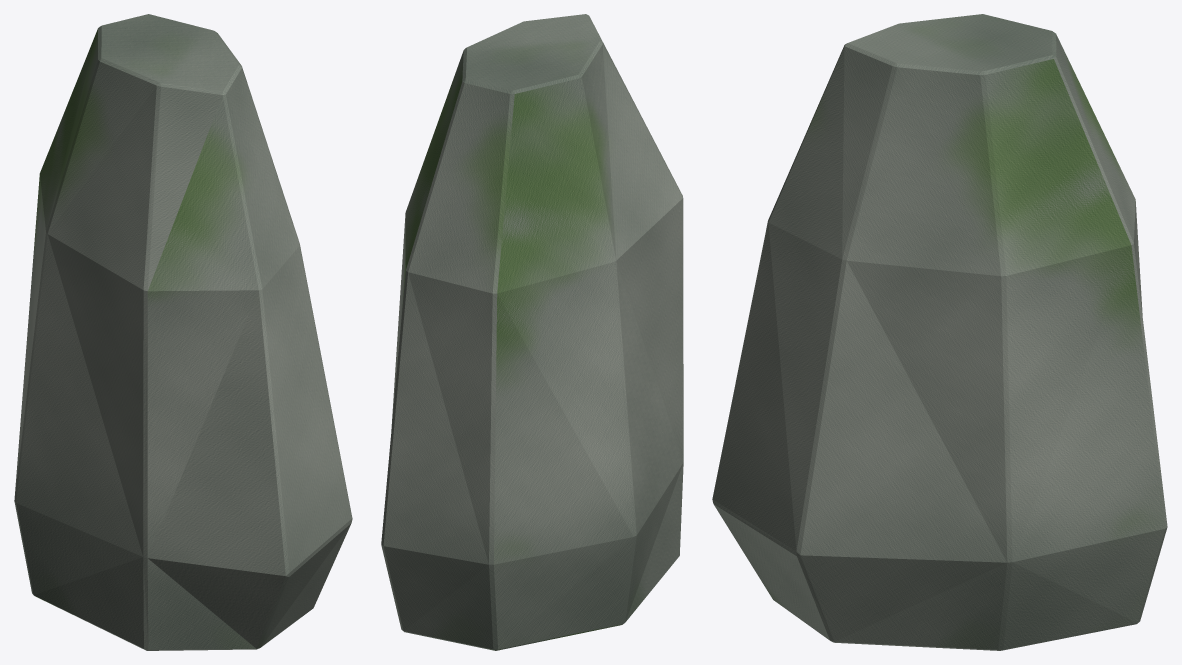
The model's file is v03_rock_2_lod1.fbx.
3 renders of one model, left to right at view 1: azimuth 30°, elevation 25°; view 2: azimuth 150°, elevation 25°; view 3: azimuth 270°, elevation 25°, orthographic. The views are drawn at different scales.
Parts seen in each view (by area): view 1: v03_rock_2.004; view 2: v03_rock_2.004; view 3: v03_rock_2.004.
Part boxes in pixels (box(x1,y1,x2,y2)): v03_rock_2.004: box(14, 14, 352, 650); v03_rock_2.004: box(381, 14, 683, 650); v03_rock_2.004: box(712, 14, 1167, 650).
Bounding box in the file's own units: 16409 × 10912 × 22200.
